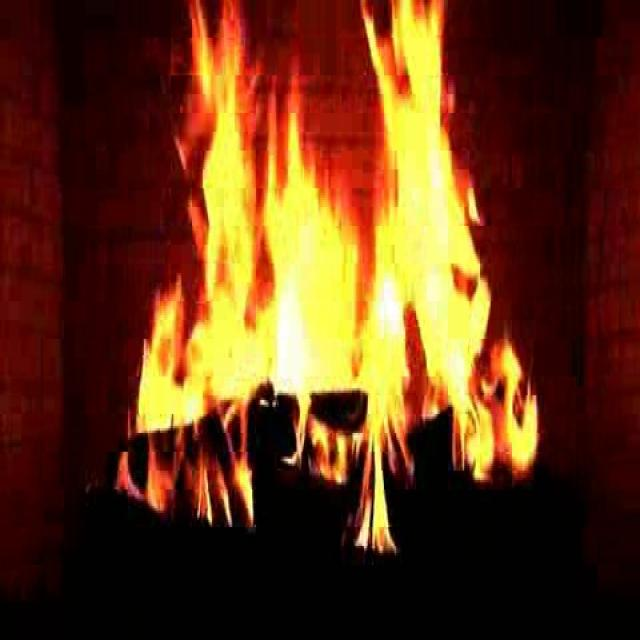fire: (133, 9, 522, 516)
